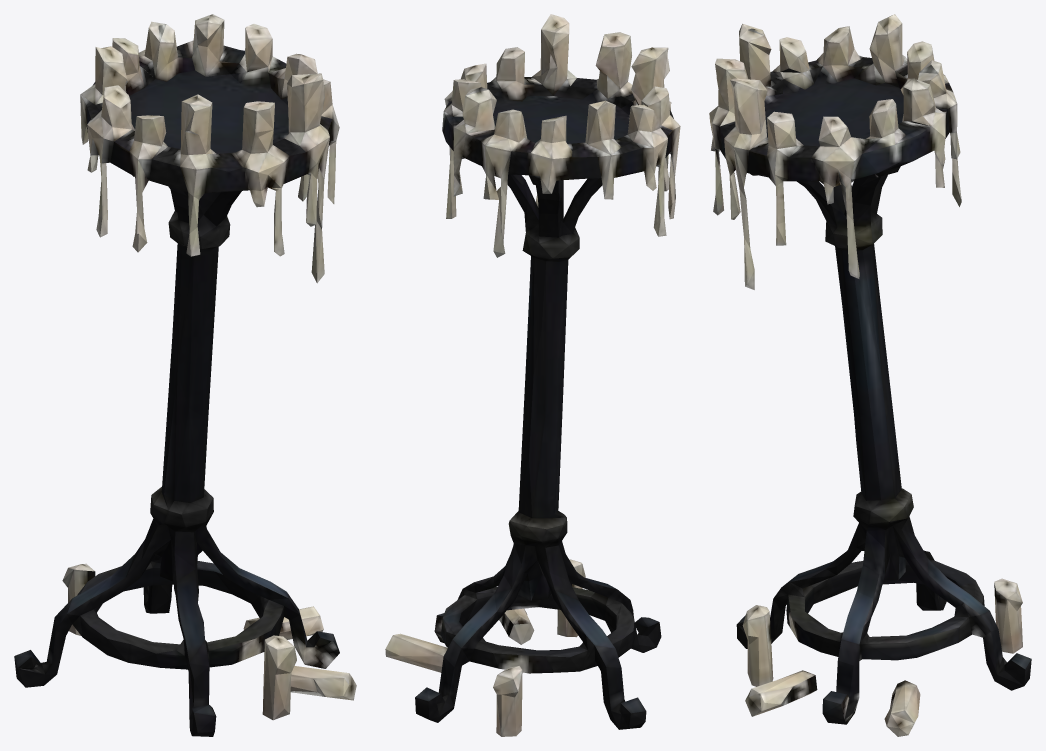
Rendered from candle_stand.glb.
3 views of the same model, side by side, from view 1: azimuth 30°, elevation 25°; view 2: azimuth 150°, elevation 25°; view 3: azimuth 270°, elevation 25° (orthographic). The views are drawn at different scales.
Parts seen in each view (by area): view 1: tripo_node_e7eba2e6-b187-4f47-9d4b-34c37cdb0bdc.001; view 2: tripo_node_e7eba2e6-b187-4f47-9d4b-34c37cdb0bdc.001; view 3: tripo_node_e7eba2e6-b187-4f47-9d4b-34c37cdb0bdc.001.
Part boxes in pixels (left/top/right/bottom): tripo_node_e7eba2e6-b187-4f47-9d4b-34c37cdb0bdc.001: left=14, top=14, right=356, bottom=736; tripo_node_e7eba2e6-b187-4f47-9d4b-34c37cdb0bdc.001: left=385, top=14, right=680, bottom=736; tripo_node_e7eba2e6-b187-4f47-9d4b-34c37cdb0bdc.001: left=709, top=14, right=1031, bottom=736.
Bounding box in the file's own units: 0.4664 × 0.9942 × 0.4704.
1 material, 1 textured.
